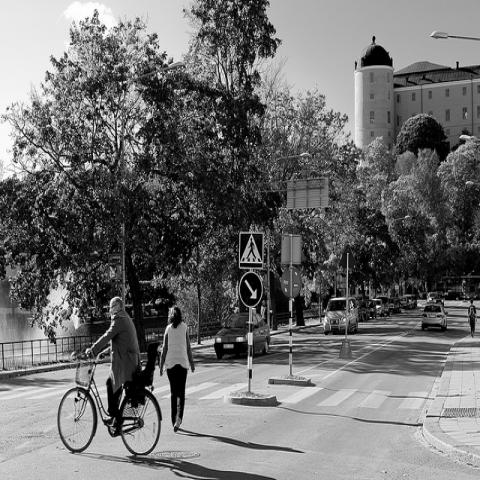car: (213, 311, 272, 360), (322, 296, 359, 336), (421, 304, 448, 332), (400, 294, 417, 309), (365, 300, 377, 320), (378, 296, 390, 316), (358, 301, 370, 321), (372, 299, 384, 318), (388, 298, 402, 312), (426, 291, 438, 303)
